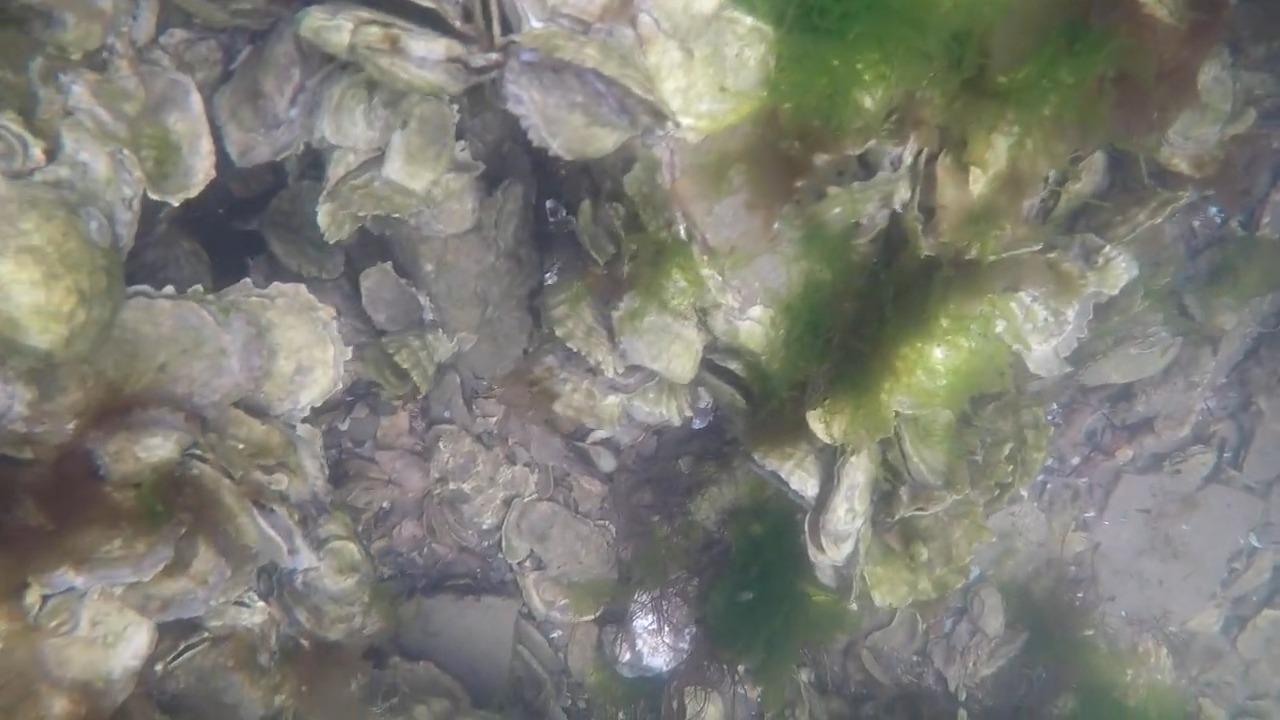Oyster: (388, 178, 534, 383), (99, 284, 269, 426), (0, 182, 123, 373), (496, 39, 664, 167), (205, 275, 348, 423), (627, 1, 781, 134), (265, 502, 385, 649), (158, 456, 287, 592), (211, 17, 322, 171), (24, 587, 162, 708), (800, 136, 934, 257), (315, 138, 461, 246), (1156, 47, 1271, 180), (149, 622, 302, 719), (120, 59, 217, 204), (38, 100, 143, 230), (499, 491, 621, 594), (537, 264, 626, 384), (258, 174, 352, 282), (371, 94, 463, 202), (808, 445, 881, 572), (528, 349, 626, 439), (89, 415, 200, 492), (611, 292, 706, 381), (689, 172, 777, 268), (859, 534, 956, 614), (922, 143, 996, 246), (505, 606, 574, 716), (1068, 328, 1183, 392), (513, 557, 610, 632), (311, 66, 394, 153), (749, 427, 829, 514), (11, 1, 120, 63), (341, 331, 427, 406), (612, 372, 711, 433), (356, 260, 432, 337), (889, 411, 962, 491), (857, 604, 928, 686), (574, 194, 631, 271), (1230, 602, 1280, 686), (1221, 543, 1280, 609), (1057, 146, 1116, 208), (1193, 49, 1241, 116)
